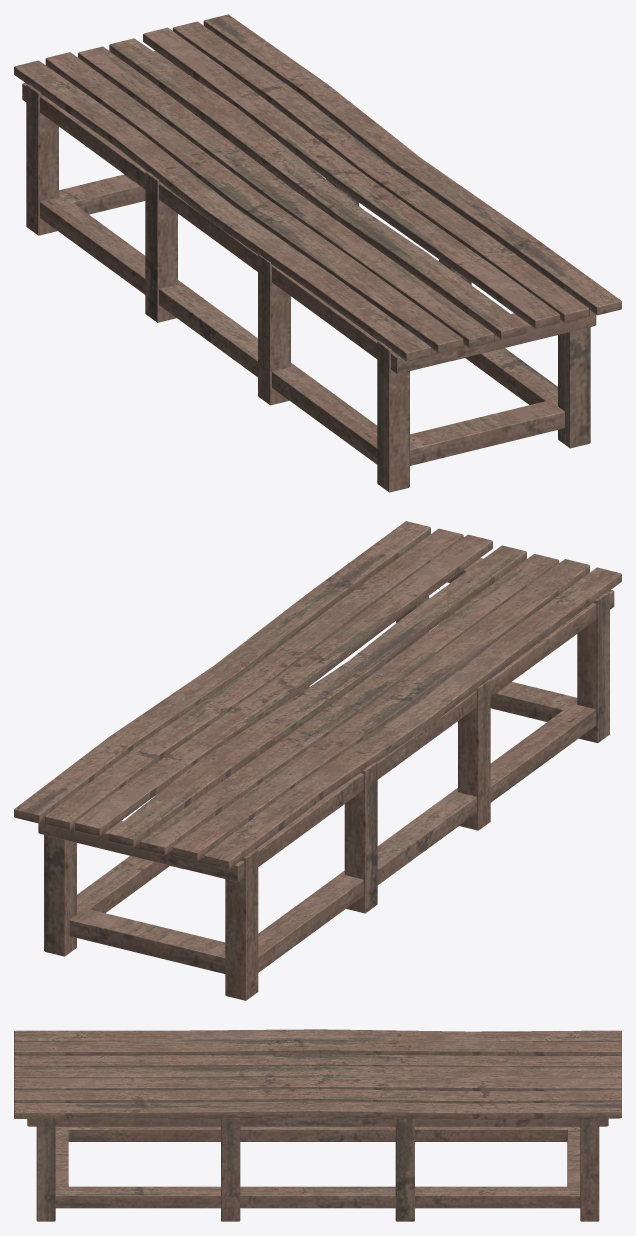
The model's file is SM_table_02.glb.
3 views of the same model, one above another, from view 1: azimuth 30°, elevation 25°; view 2: azimuth 150°, elevation 25°; view 3: azimuth 270°, elevation 25° (orthographic). The views are drawn at different scales.
Parts seen in each view (by area): view 1: SM_table_02; view 2: SM_table_02; view 3: SM_table_02.
Boxes of the visible parts, x1,y1,x2,y2 form: SM_table_02: (14, 14, 621, 492); SM_table_02: (14, 521, 621, 1000); SM_table_02: (14, 1029, 621, 1221).
Size of the model in its own units: 1.32 by 0.8599 by 4.04.
Materials: 1 (1 with a texture image).
